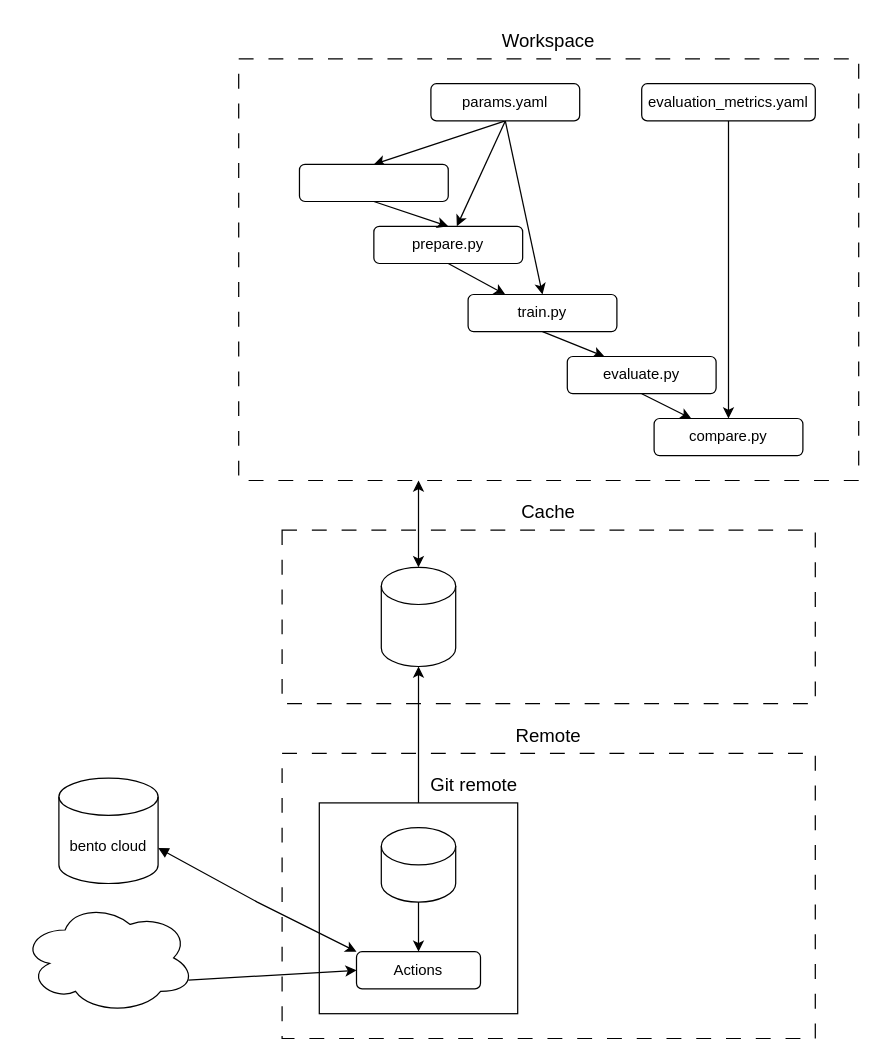
The diagram is 880 pixels wide and 1060 high, and some of its shapes have lost their labels. Each missing label, with the box of its shape:
.git: (380, 566, 456, 666)
Datas from tf: (20, 901, 195, 1014)
matrix.py: (298, 163, 448, 202)
Repo: (380, 826, 456, 902)
